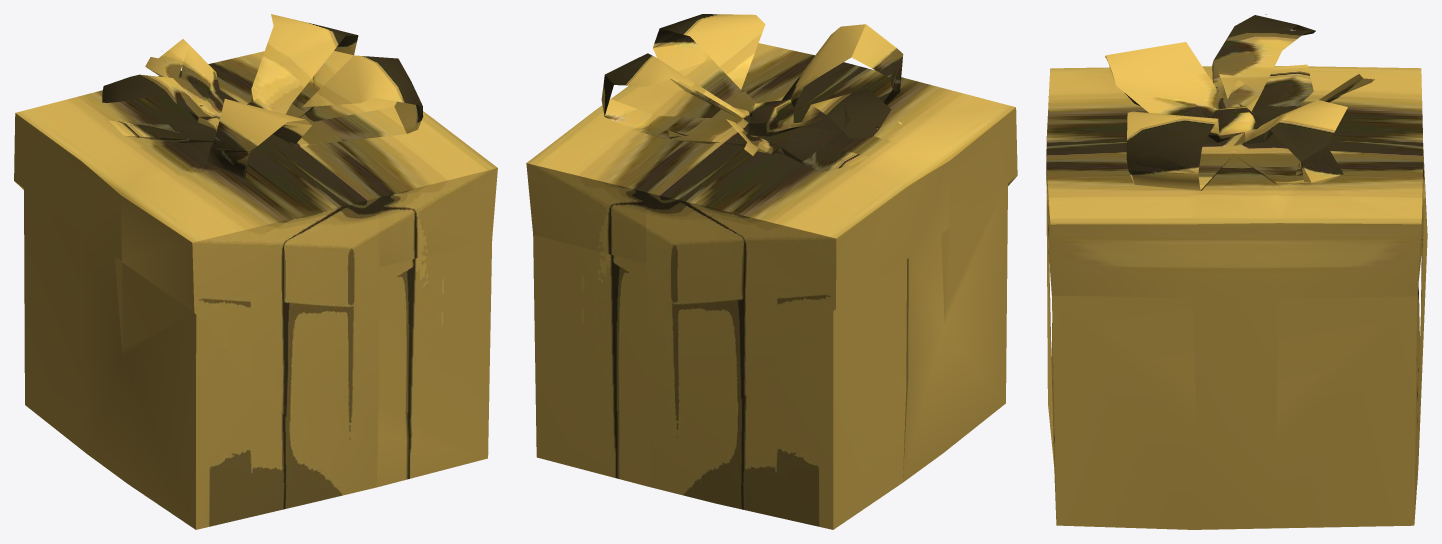
3 views of the same model, side by side, from view 1: azimuth 30°, elevation 25°; view 2: azimuth 150°, elevation 25°; view 3: azimuth 270°, elevation 25° (orthographic). The views are drawn at different scales.
Visible parts, largest first — view 1: Decor_gift_box_display_a_gold; view 2: Decor_gift_box_display_a_gold; view 3: Decor_gift_box_display_a_gold.
Part boxes in pixels (x1,y1,x2,y2): Decor_gift_box_display_a_gold: (14, 14, 497, 529); Decor_gift_box_display_a_gold: (526, 14, 1017, 529); Decor_gift_box_display_a_gold: (1046, 14, 1427, 529).
Bounding box in the file's own units: 1.06 × 1.2 × 1.08.
1 material, 1 textured.
